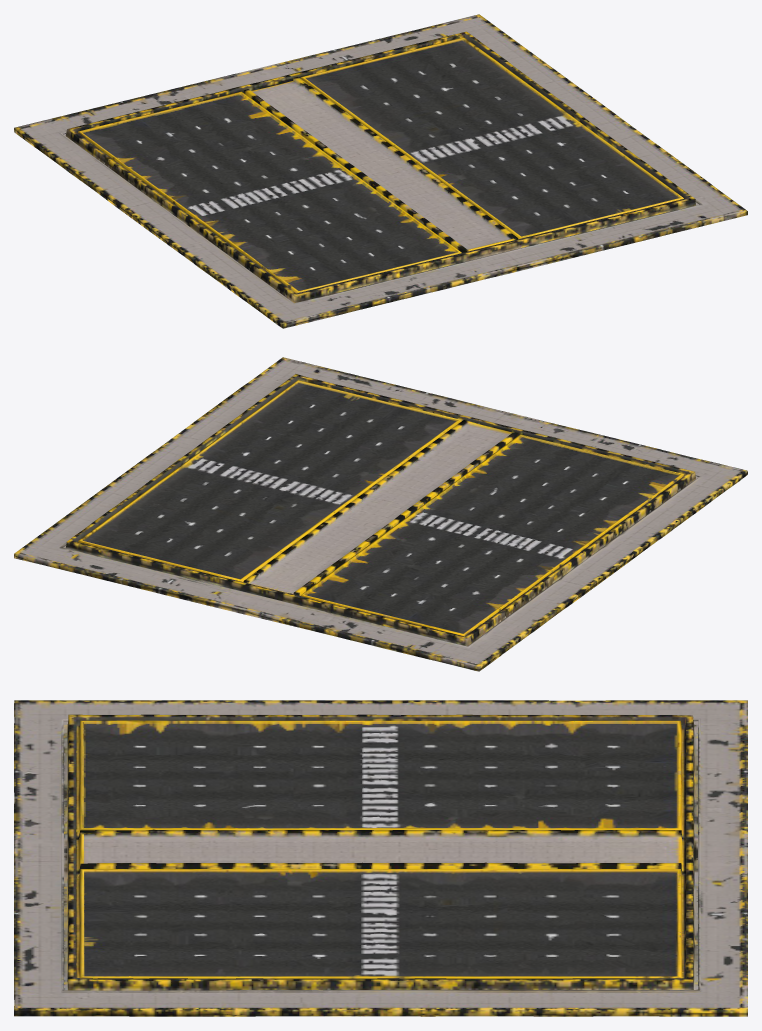
File: kw_road.glb
3 views of the same model, one above another, from view 1: azimuth 30°, elevation 25°; view 2: azimuth 150°, elevation 25°; view 3: azimuth 270°, elevation 25° (orthographic). The views are drawn at different scales.
Visible parts, largest first — view 1: frame; view 2: frame; view 3: frame.
Part boxes in pixels (left/top/right/bottom): frame: left=14, top=14, right=747, bottom=328; frame: left=14, top=357, right=747, bottom=671; frame: left=14, top=700, right=747, bottom=1016.
Size of the model in its own units: 32.01 by 0.6673 by 32.
Materials: 1 (1 with a texture image).
